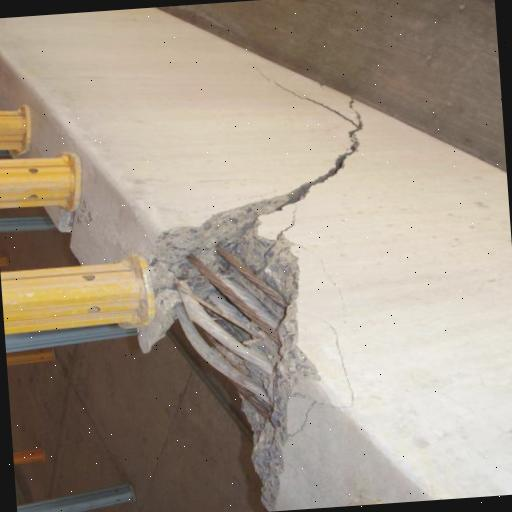spalling: (137, 181, 321, 511), (250, 58, 375, 201)
